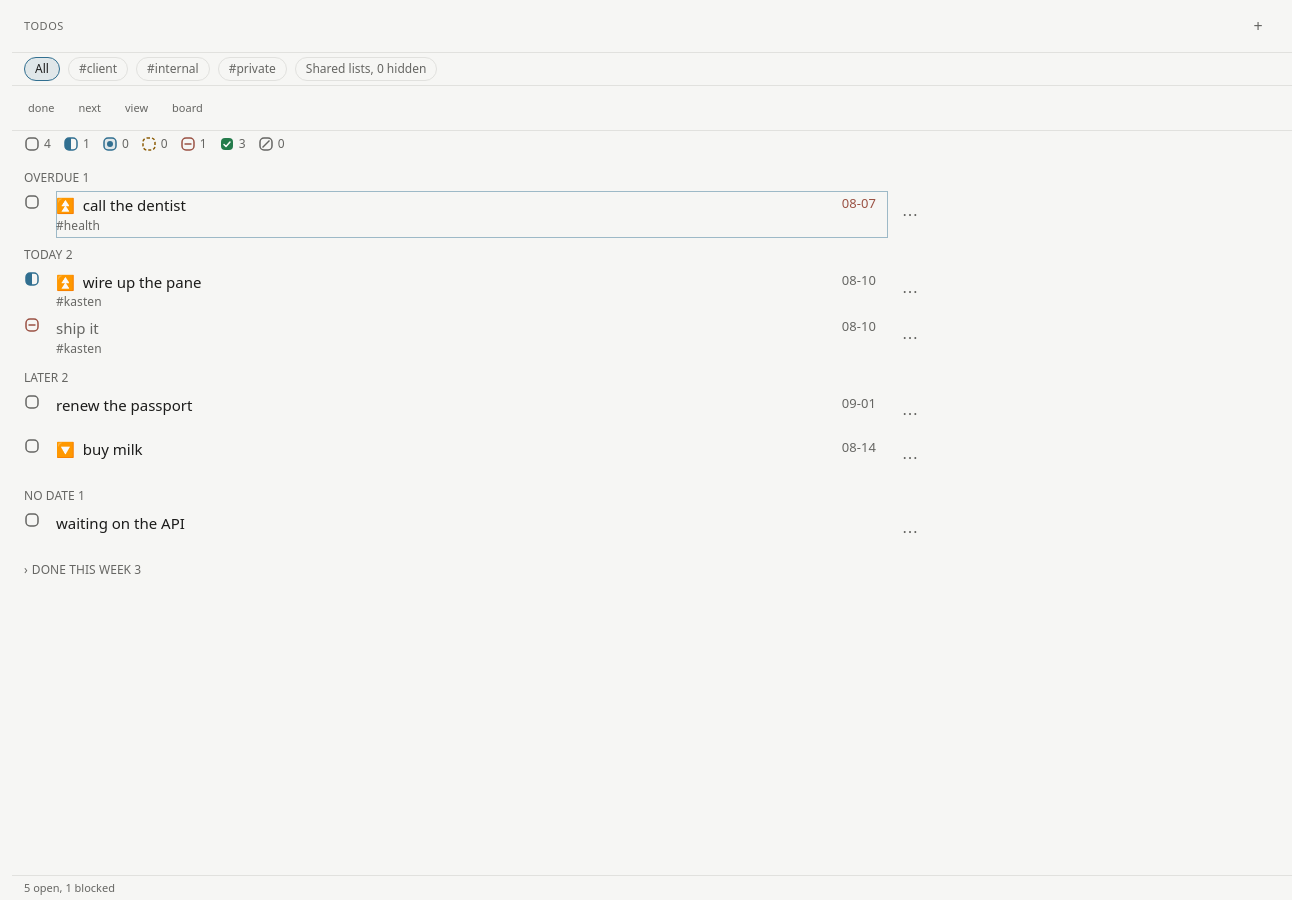
the todo pane by touch › walks the views from a button, as v does
Expected: the button "🔽 buy milk 08-14" is shown, 56,434 -> 888,478
Click the button "view" at (137,108), box 113,86 -> 160,130
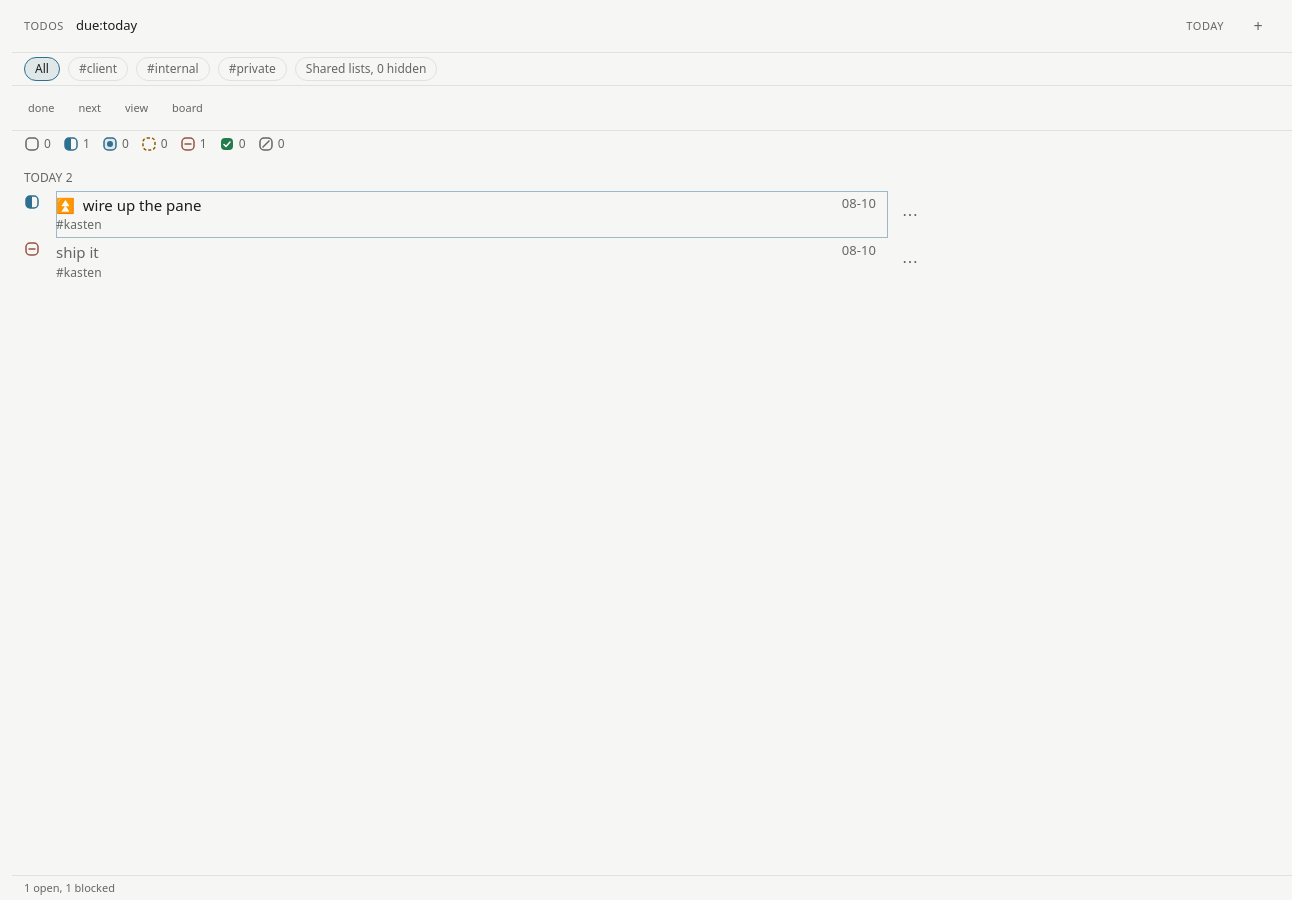
Expected: the text with test id "todo-view" reads "today", 1186,18 -> 1224,33
Expected: the field named "filter todos" holds "due:today", 76,16 -> 1174,36
Click the button "view" at (137,108), box 113,86 -> 160,130
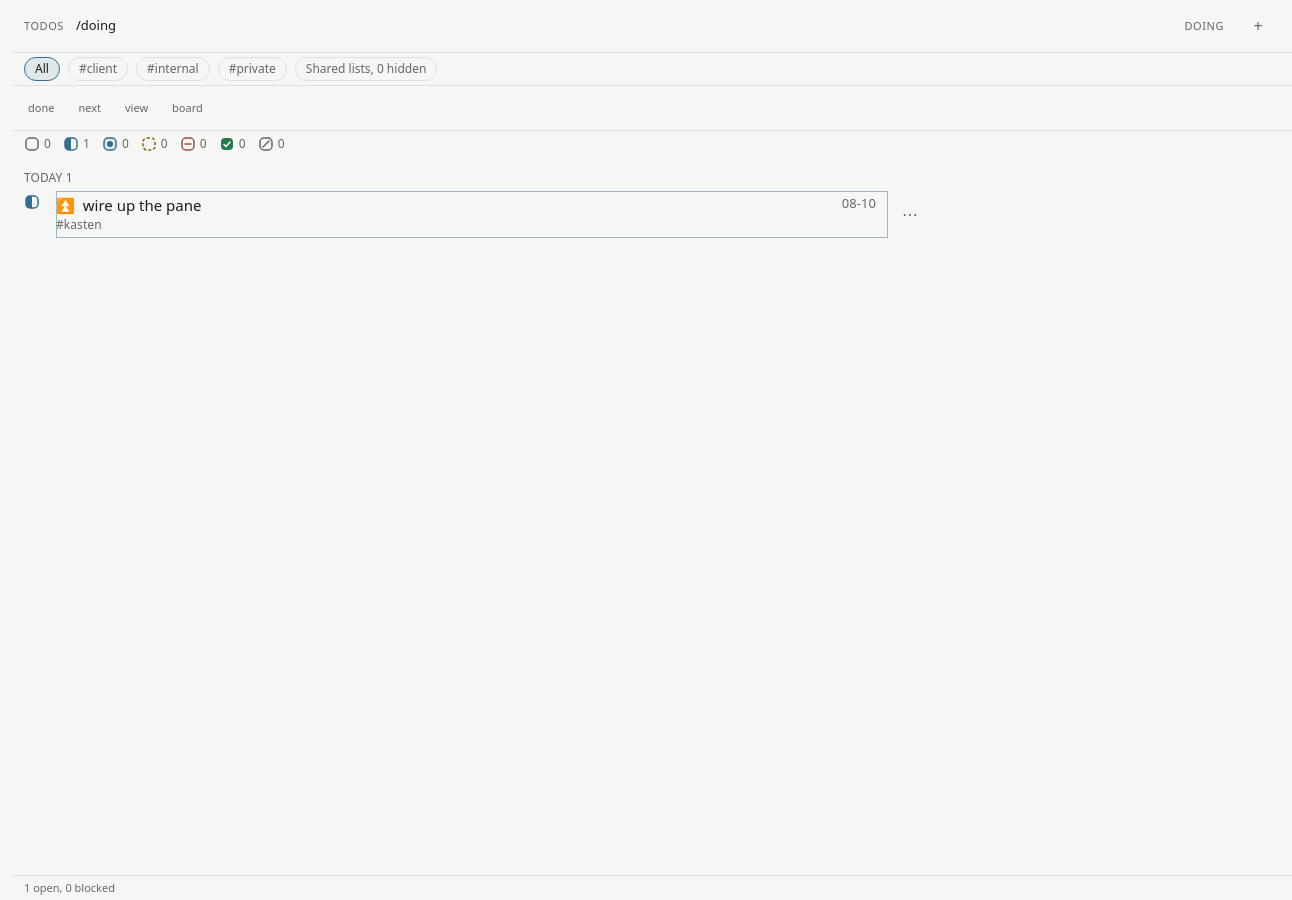
Expected: the text with test id "todo-view" reads "doing", 1184,18 -> 1224,33
